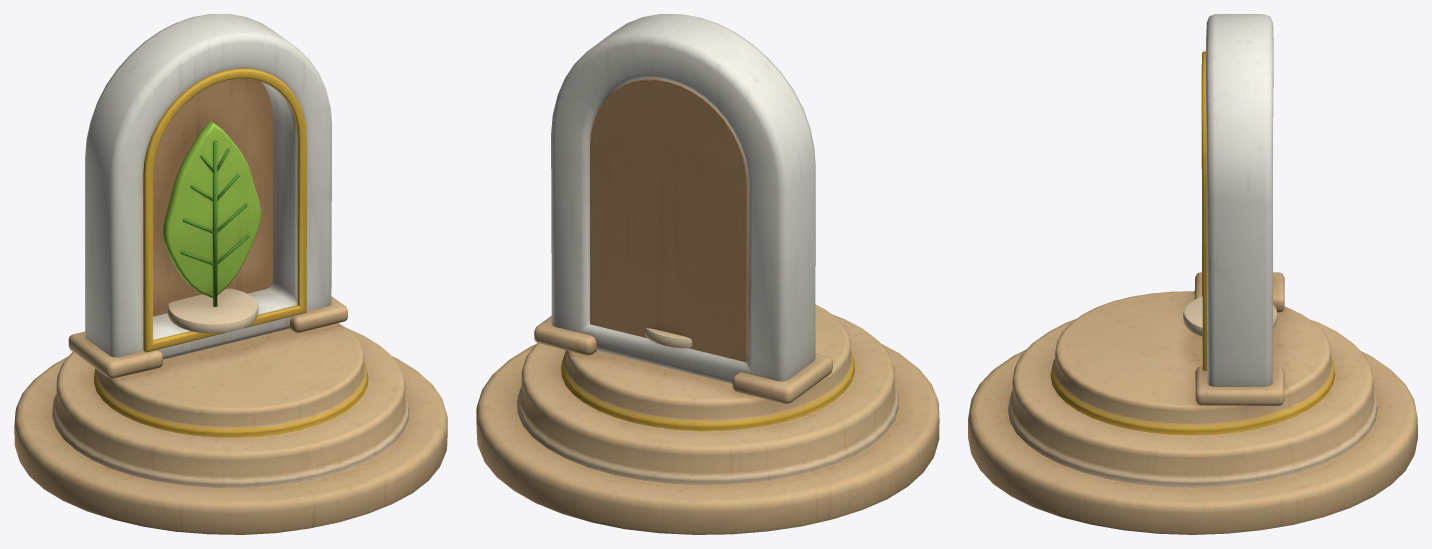
Rendered from rooftop-core.glb.
3 renders of one model, left to right at view 1: azimuth 30°, elevation 25°; view 2: azimuth 150°, elevation 25°; view 3: azimuth 270°, elevation 25°, orthographic. The views are drawn at different scales.
Visible parts, largest first — view 1: dais, arch, emblem; view 2: arch, dais; view 3: dais, arch.
Part boxes in pixels (left/top/right/bottom): dais: left=14, top=323, right=447, bottom=534; arch: left=68, top=14, right=347, bottom=378; emblem: left=162, top=121, right=261, bottom=306; arch: left=534, top=14, right=832, bottom=403; dais: left=476, top=304, right=939, bottom=534; dais: left=968, top=291, right=1417, bottom=534; arch: left=1183, top=14, right=1284, bottom=405.
Size of the model in its own units: 1.9 by 1.94 by 1.9.
7 materials, 7 textured.
